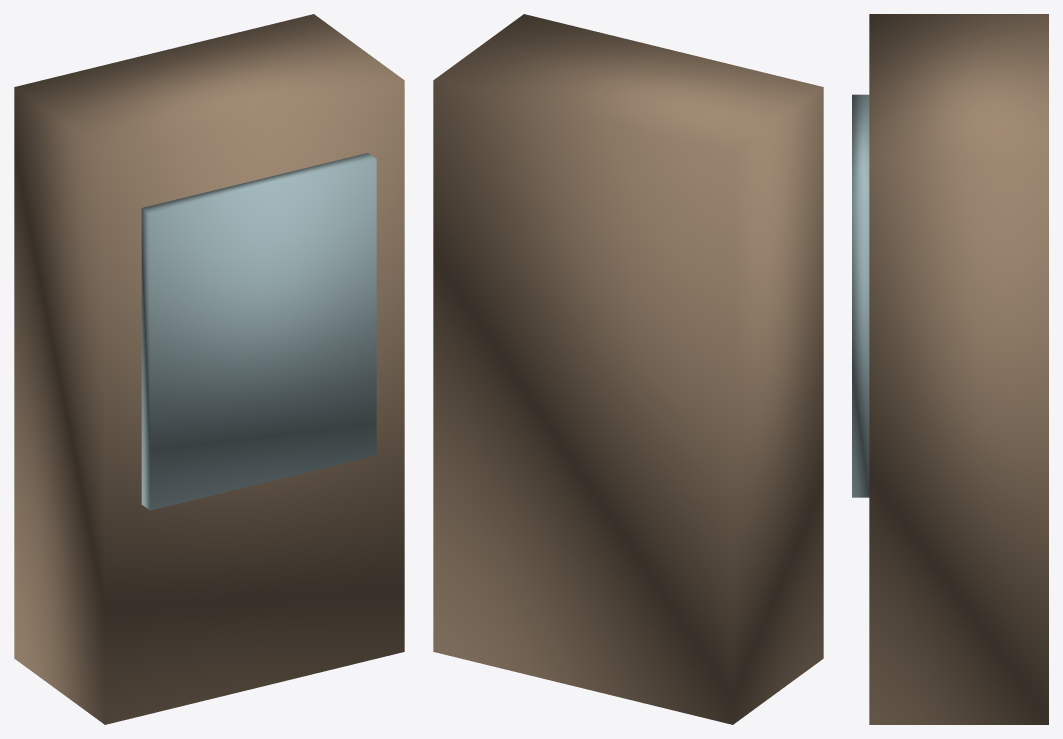
File: shrine_cabinet__compact.glb
3 views of the same model, side by side, from view 1: azimuth 30°, elevation 25°; view 2: azimuth 150°, elevation 25°; view 3: azimuth 270°, elevation 25° (orthographic).
Visible parts, largest first — view 1: world; view 2: world; view 3: world.
Part boxes in pixels (x1,y1,x2,y2): world: (14, 14, 404, 724); world: (433, 14, 823, 724); world: (852, 14, 1048, 724).
Size of the model in its own units: 0.6888 by 1.26 by 0.3956.
